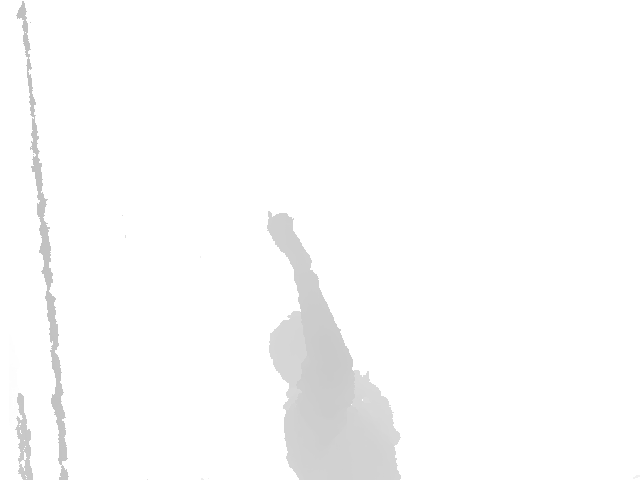hand: (266, 211, 312, 266)
head: (268, 311, 343, 388)
person: (266, 212, 402, 480)
